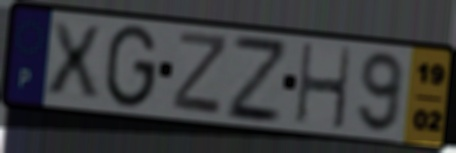9: (355, 49, 406, 136)
G: (101, 22, 161, 112)
H: (294, 41, 354, 133)
X: (44, 19, 103, 101)
Z: (225, 31, 288, 126), (169, 29, 230, 119)
